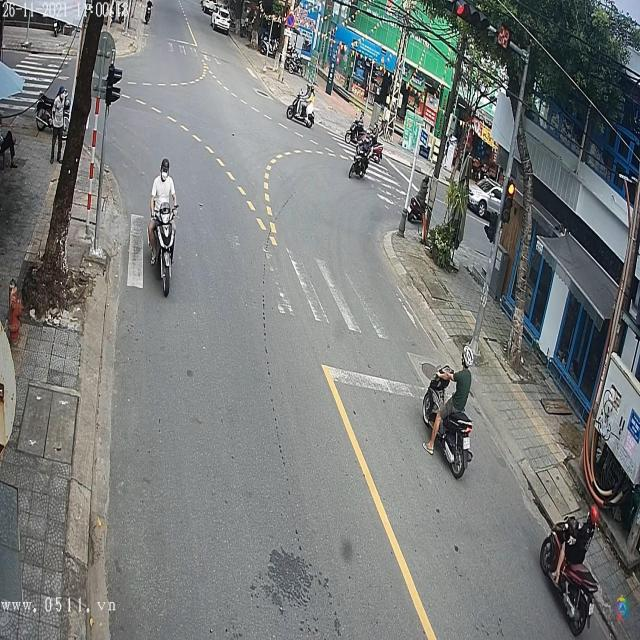car: (467, 178, 514, 221)
motorcycle: (539, 512, 598, 640), (422, 362, 474, 478), (149, 199, 180, 298), (284, 86, 316, 130), (349, 147, 372, 178)
